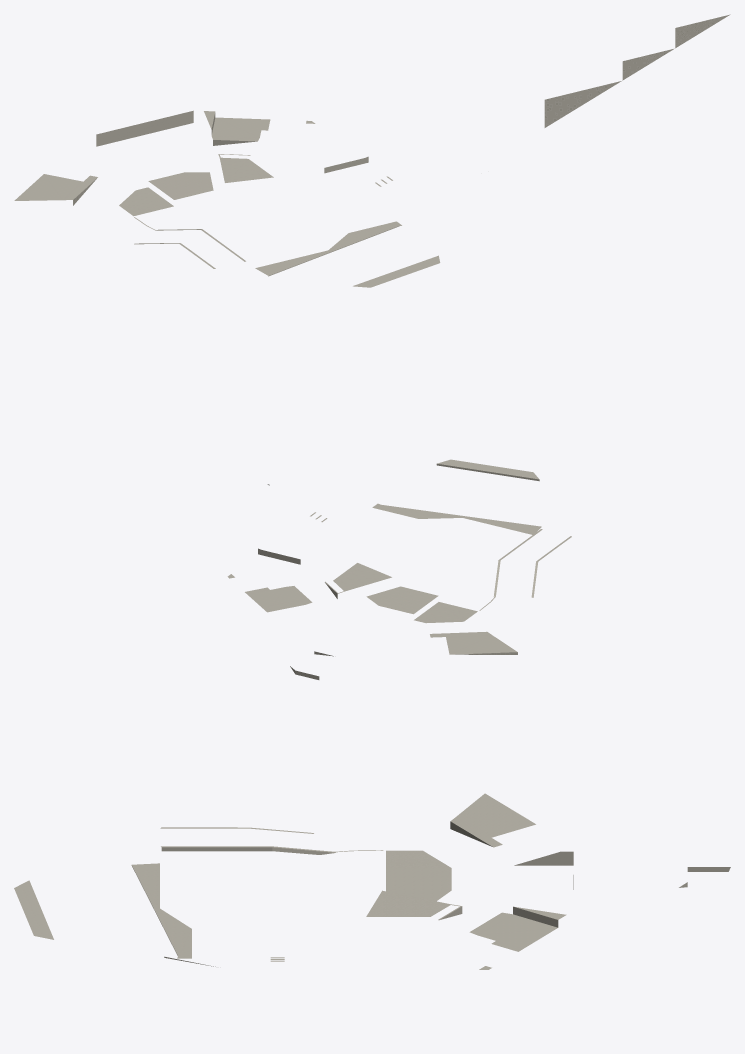
The model's file is kd_stage_135ebf_1_7.glb.
3 renders of one model, top to bottom at view 1: azimuth 30°, elevation 25°; view 2: azimuth 150°, elevation 25°; view 3: azimuth 270°, elevation 25°, orthographic. The views are drawn at different scales.
Visible parts, largest first — view 1: kd_stage_135ebf_1_7; view 2: kd_stage_135ebf_1_7; view 3: kd_stage_135ebf_1_7.
Part boxes in pixels (bbox=[...]): kd_stage_135ebf_1_7: bbox=[14, 14, 730, 287]; kd_stage_135ebf_1_7: bbox=[227, 459, 571, 679]; kd_stage_135ebf_1_7: bbox=[14, 793, 730, 969].
Size of the model in its own units: 74.07 by 11.1 by 50.33.
1 material, 1 textured.
